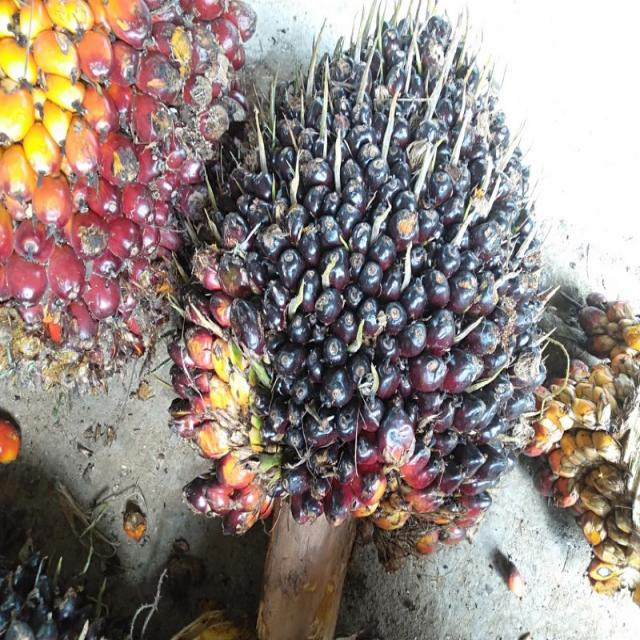fraksi 00: (178, 9, 546, 549)
